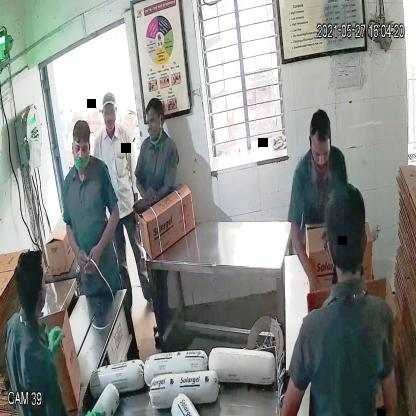no_goggles: (307, 144, 334, 165), (67, 138, 94, 158)
